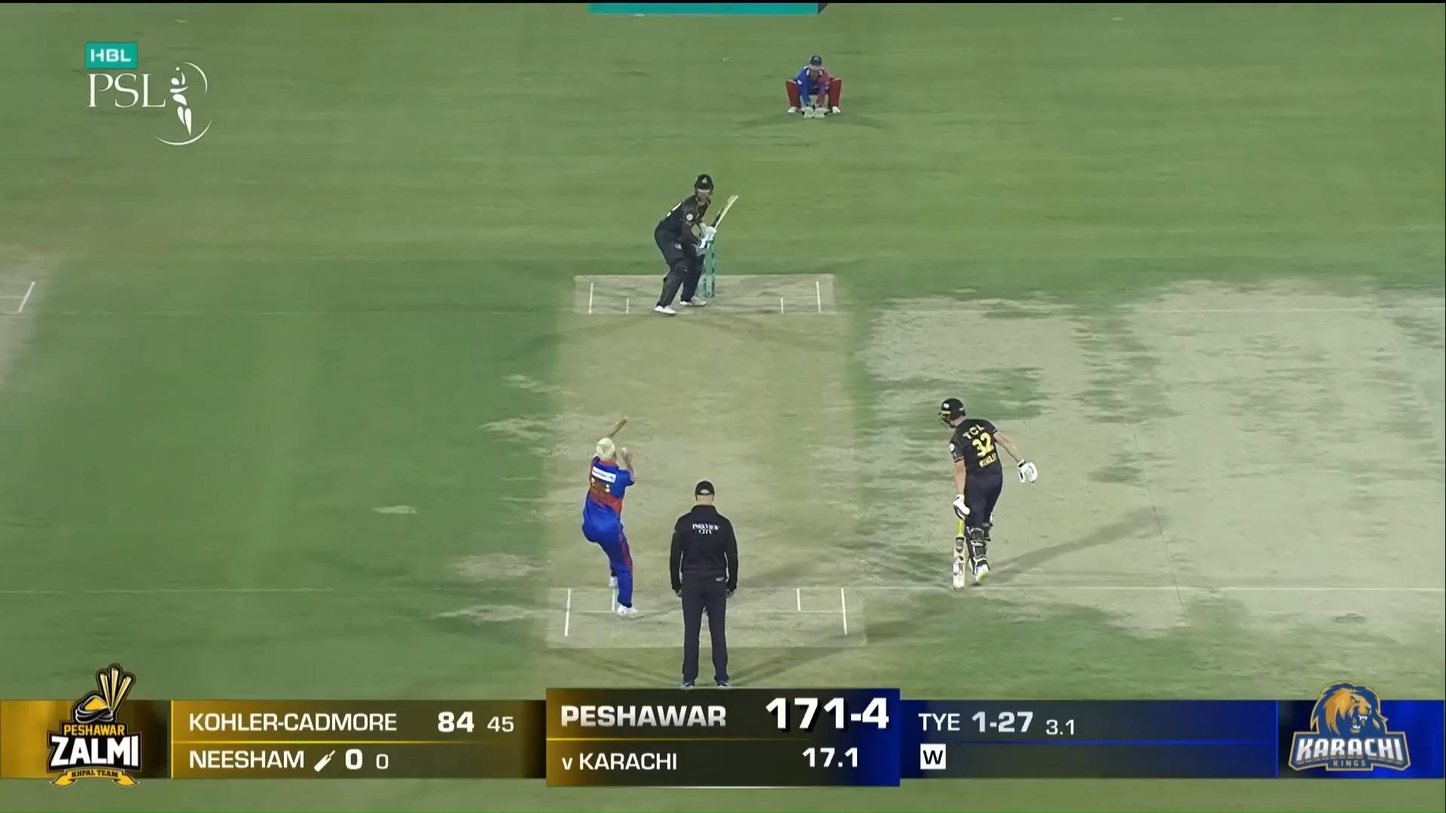batsman: (652, 172, 739, 317)
